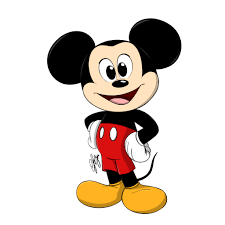mickeymouse: (43, 18, 185, 215)
